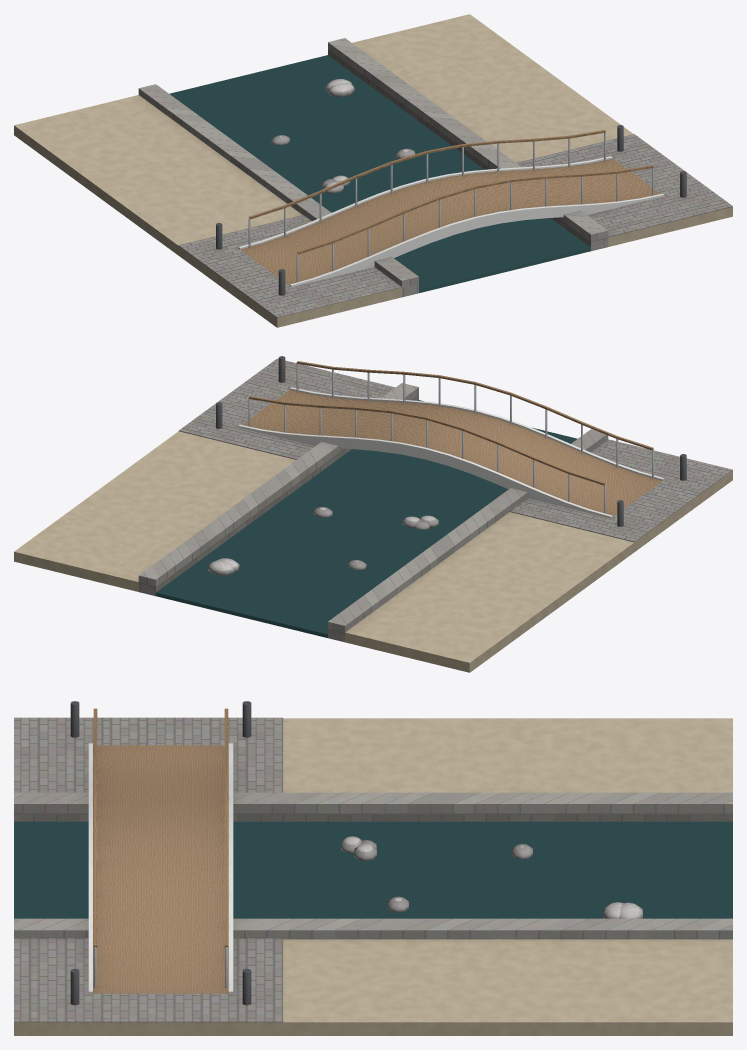
Rendered from IlsanStreamBridge_LOD1.fbx.
3 views of the same model, one above another, from view 1: azimuth 30°, elevation 25°; view 2: azimuth 150°, elevation 25°; view 3: azimuth 270°, elevation 25° (orthographic). The views are drawn at different scales.
Parts seen in each view (by area): view 1: IlsanStreamBridge_LOD1; view 2: IlsanStreamBridge_LOD1; view 3: IlsanStreamBridge_LOD1.
Boxes of the visible parts, <box> form: IlsanStreamBridge_LOD1: <box>14,14,732,327</box>; IlsanStreamBridge_LOD1: <box>14,356,732,672</box>; IlsanStreamBridge_LOD1: <box>14,701,732,1035</box>.
Bounding box in the file's own units: 15.9 × 2.13 × 15.9.
1 material, 1 textured.
